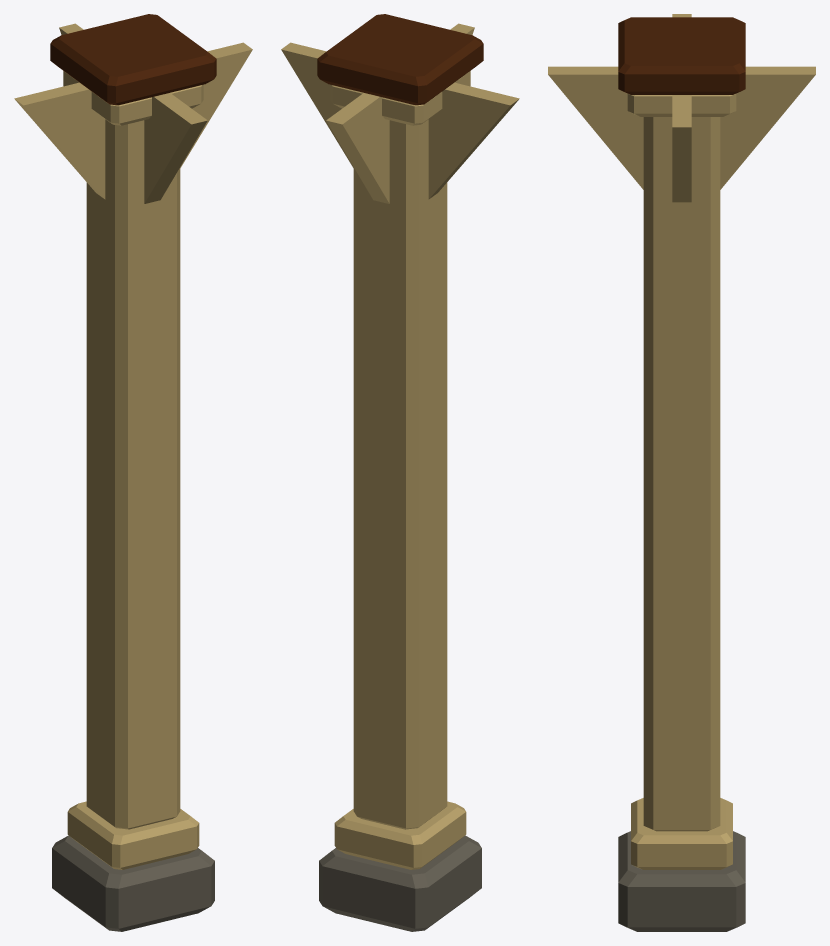
The model's file is SM_Bld_Pillar_Porch.glb.
3 renders of one model, left to right at view 1: azimuth 30°, elevation 25°; view 2: azimuth 150°, elevation 25°; view 3: azimuth 270°, elevation 25°, orthographic.
Parts seen in each view (by area): view 1: SM_Bld_Pillar_Porch; view 2: SM_Bld_Pillar_Porch; view 3: SM_Bld_Pillar_Porch.
Part boxes in pixels (bbox=[...]): SM_Bld_Pillar_Porch: bbox=[14, 14, 252, 931]; SM_Bld_Pillar_Porch: bbox=[281, 14, 519, 931]; SM_Bld_Pillar_Porch: bbox=[548, 14, 815, 931].
Bounding box in the file's own units: 0.84 × 3 × 0.84.
1 material, 1 textured.
